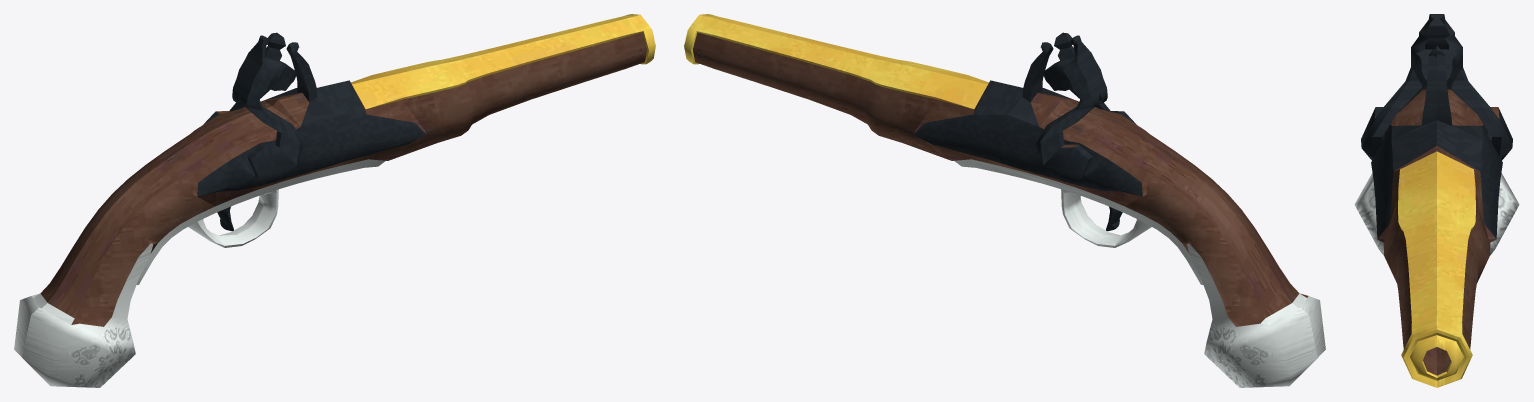
The model's file is Tofang.fbx.
3 renders of one model, left to right at view 1: azimuth 30°, elevation 25°; view 2: azimuth 150°, elevation 25°; view 3: azimuth 270°, elevation 25°, orthographic. The views are drawn at different scales.
Visible parts, largest first — view 1: polySurface2; view 2: polySurface2; view 3: polySurface2.
Part boxes in pixels (<box>): polySurface2: <box>14,14,655,387</box>; polySurface2: <box>684,14,1325,387</box>; polySurface2: <box>1354,14,1519,387</box>.
Size of the model in its own units: 27.07 by 12.33 by 4.95.
